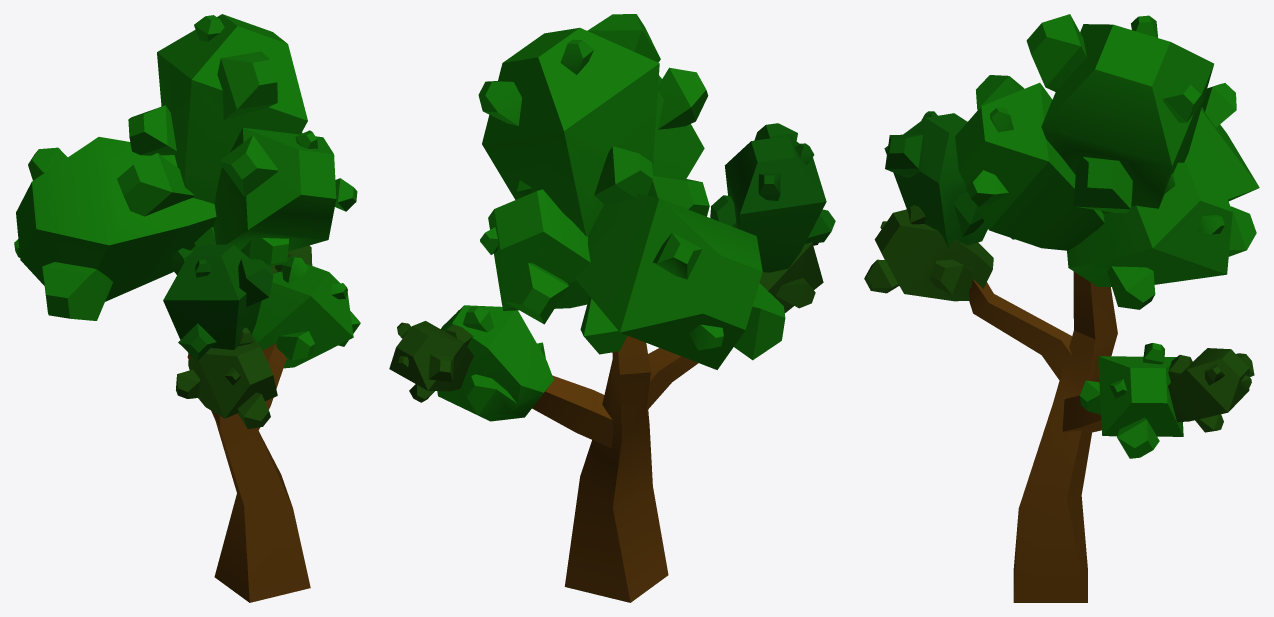
Rendered from tree.gltf.
3 views of the same model, side by side, from view 1: azimuth 30°, elevation 25°; view 2: azimuth 150°, elevation 25°; view 3: azimuth 270°, elevation 25° (orthographic). The views are drawn at different scales.
Parts seen in each view (by area): view 1: Tree; view 2: Tree; view 3: Tree.
Part boxes in pixels (left/top/right/bottom): Tree: left=14, top=14, right=360, bottom=602; Tree: left=389, top=14, right=835, bottom=602; Tree: left=864, top=14, right=1259, bottom=602.
Size of the model in its own units: 6.63 by 10.48 by 6.64.
